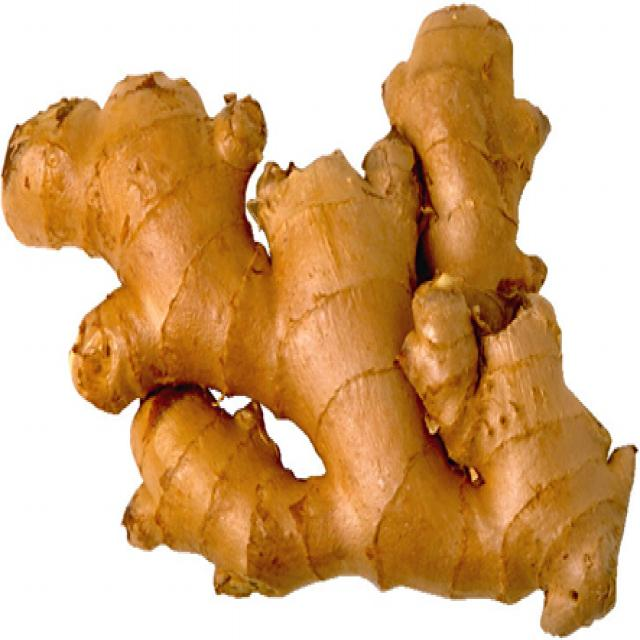ginger: (1, 8, 635, 632)
